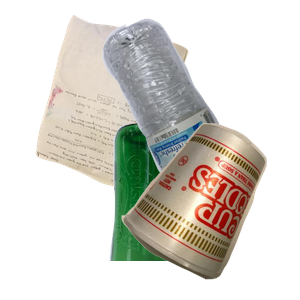glass: (107, 120, 278, 300)
paper: (33, 12, 214, 192)
plastic: (100, 16, 300, 196)
trash: (119, 121, 300, 300)
